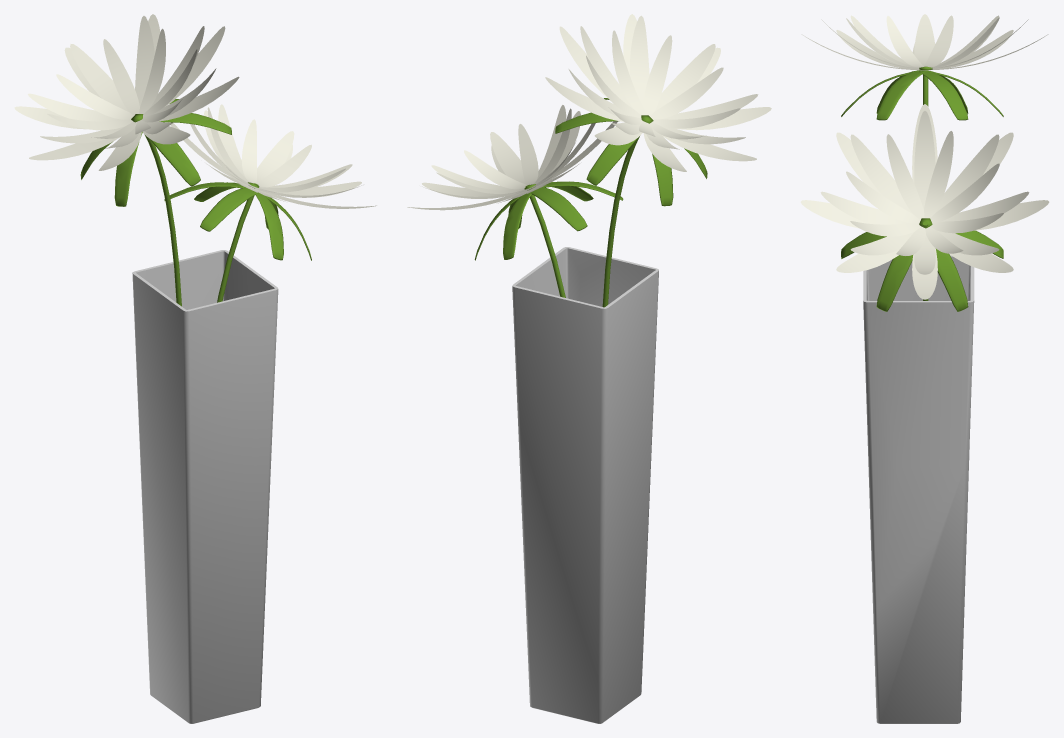
3 renders of one model, left to right at view 1: azimuth 30°, elevation 25°; view 2: azimuth 150°, elevation 25°; view 3: azimuth 270°, elevation 25°, orthographic.
Parts seen in each view (by area): view 1: 05d2b8c3e805112b21d05d42054c4a9288c7d130 > > root > (×3); view 2: 05d2b8c3e805112b21d05d42054c4a9288c7d130 > > root > (×3); view 3: 05d2b8c3e805112b21d05d42054c4a9288c7d130 > > root > (×3).
Boxes of the visible parts, x1,y1,x2,y2 form: 05d2b8c3e805112b21d05d42054c4a9288c7d130 > > root > (×3): (14,14,376,723); 05d2b8c3e805112b21d05d42054c4a9288c7d130 > > root > (×3): (407,14,771,723); 05d2b8c3e805112b21d05d42054c4a9288c7d130 > > root > (×3): (800,14,1049,723).
Bounding box in the file's own units: 0.2799 × 0.5401 × 0.1781.
